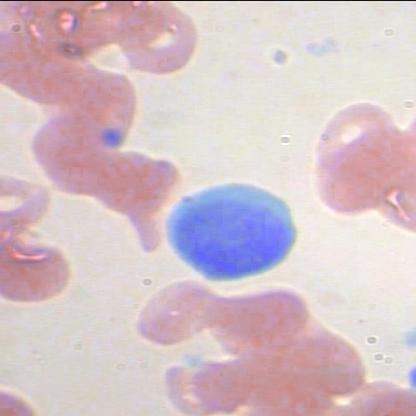RBC: (310, 94, 398, 178), (111, 3, 199, 76), (127, 275, 216, 347)
WBC: (159, 171, 301, 285)
